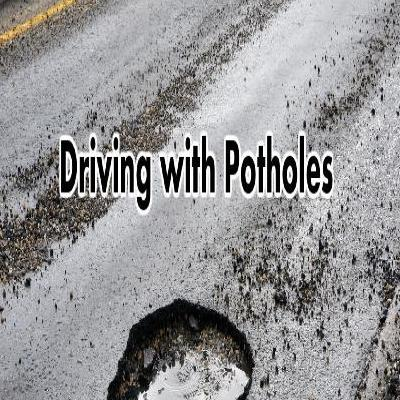pothole: (98, 286, 284, 400)
